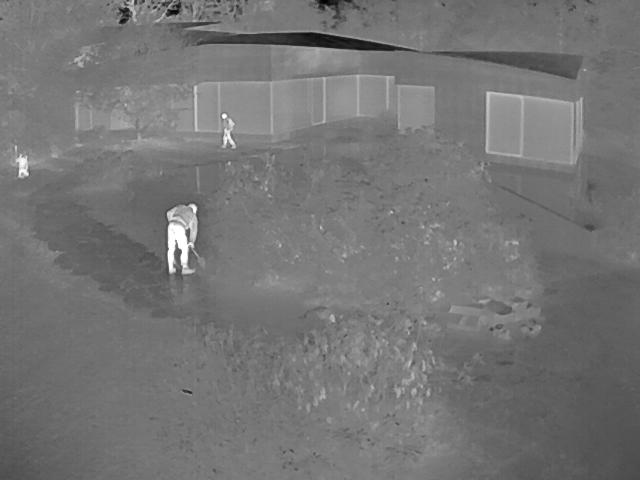person: (166, 203, 201, 273), (221, 113, 238, 148)
